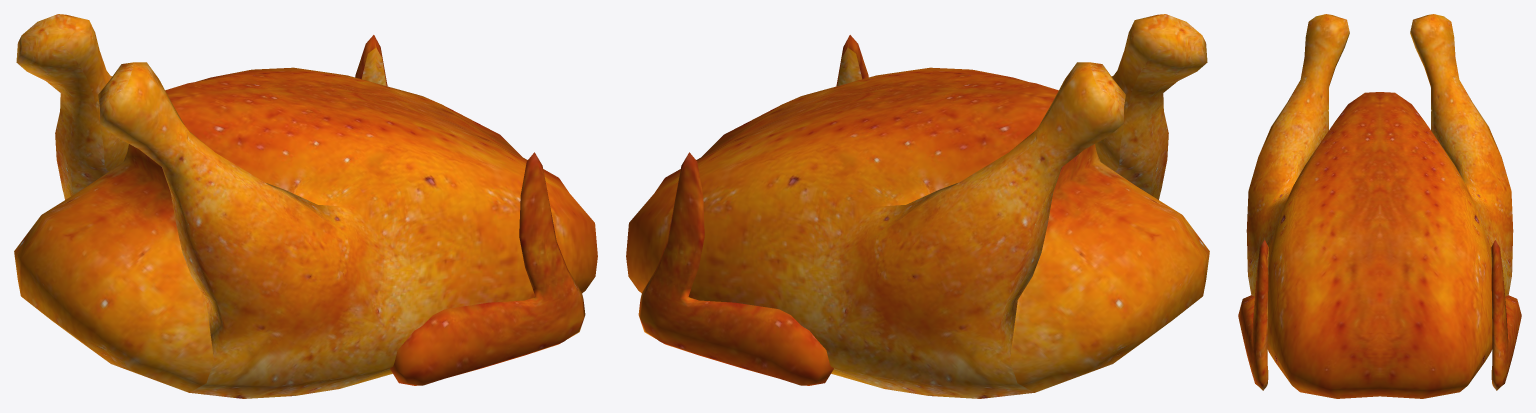
The model's file is roasted-chicken.obj.
3 renders of one model, left to right at view 1: azimuth 30°, elevation 25°; view 2: azimuth 150°, elevation 25°; view 3: azimuth 270°, elevation 25°, orthographic. The views are drawn at different scales.
Visible parts, largest first — view 1: Cube; view 2: Cube; view 3: Cube.
Part boxes in pixels (<box>): Cube: <box>14,14,597,398</box>; Cube: <box>626,14,1209,398</box>; Cube: <box>1238,14,1521,398</box>.
Bounding box in the file's own units: 35.92 × 23.27 × 24.33.
Materials: 1 (1 with a texture image).
